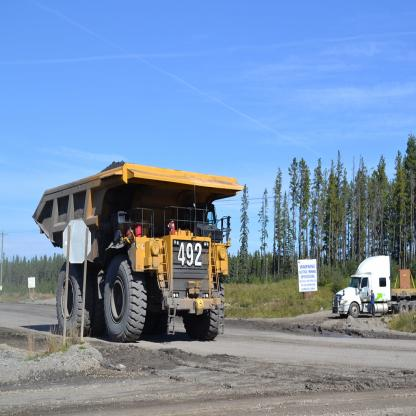dump_truck: (26, 155, 242, 348)
